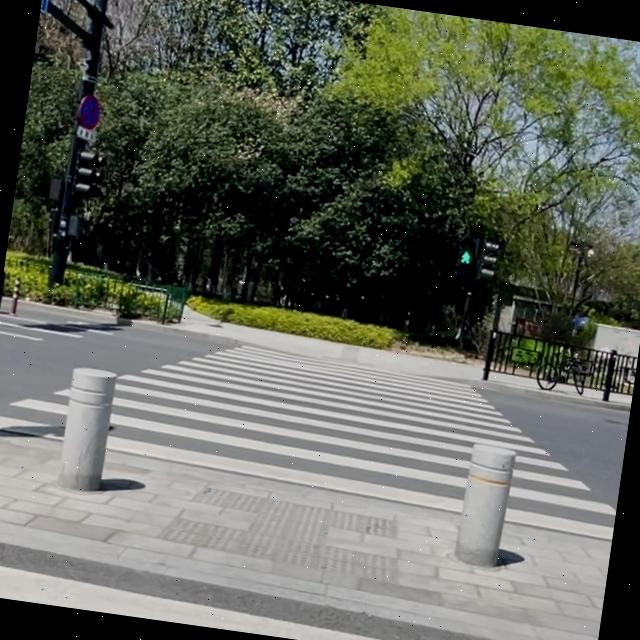curb: (0, 522, 597, 640), (429, 376, 630, 411), (20, 300, 117, 323)
